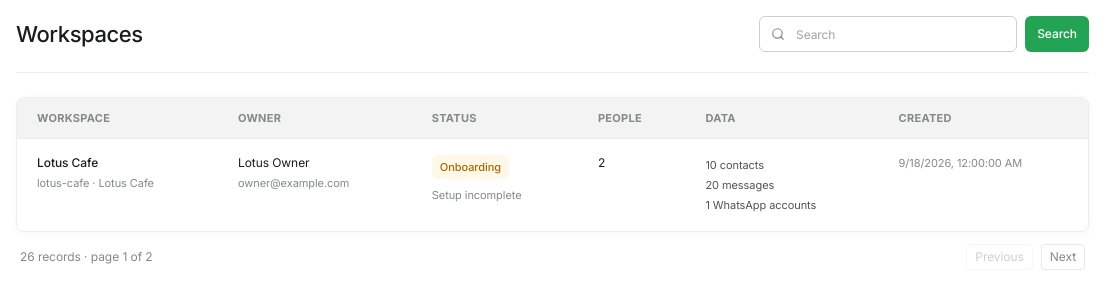
Test: platform admin sections › loads the next page from the server when pagination is available
Click the button "Next": (1063, 257) [1041, 244, 1085, 270]
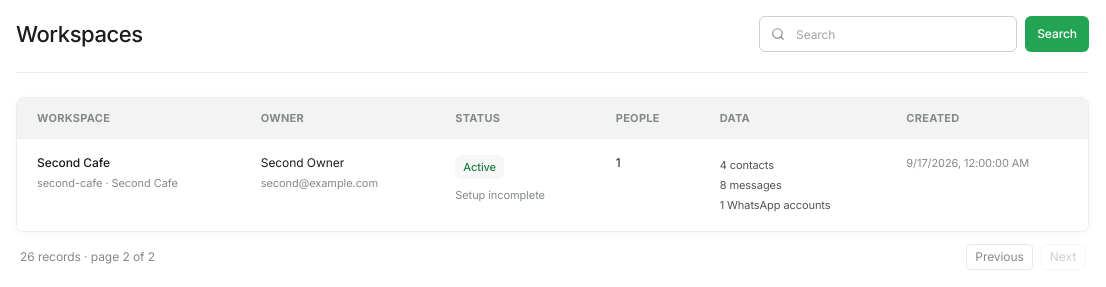
Result: the text "Second Cafe" is shown at [37, 155, 110, 170]
